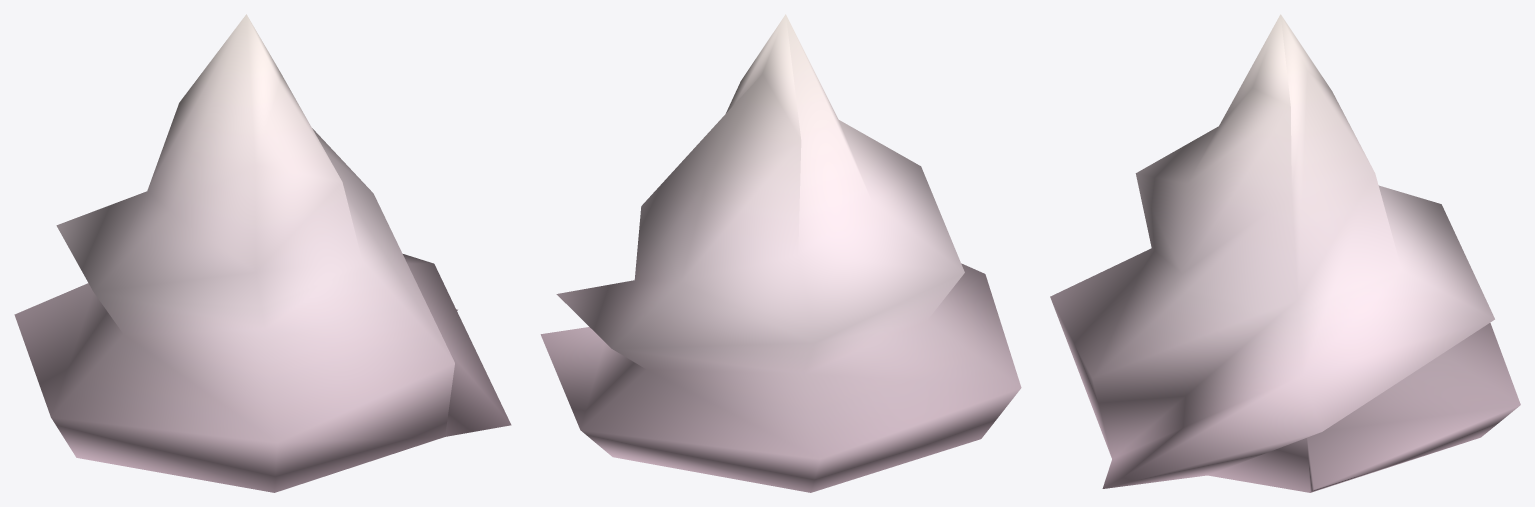
The model's file is shell2.fbx.
3 renders of one model, left to right at view 1: azimuth 30°, elevation 25°; view 2: azimuth 150°, elevation 25°; view 3: azimuth 270°, elevation 25°, orthographic.
Visible parts, largest first — view 1: Cylinder.017; view 2: Cylinder.017; view 3: Cylinder.017.
Boxes of the visible parts, bbox=[...] form: Cylinder.017: bbox=[14, 14, 511, 492]; Cylinder.017: bbox=[540, 14, 1021, 492]; Cylinder.017: bbox=[1050, 14, 1520, 492].
Size of the model in its own units: 10.83 by 9.09 by 9.94.
